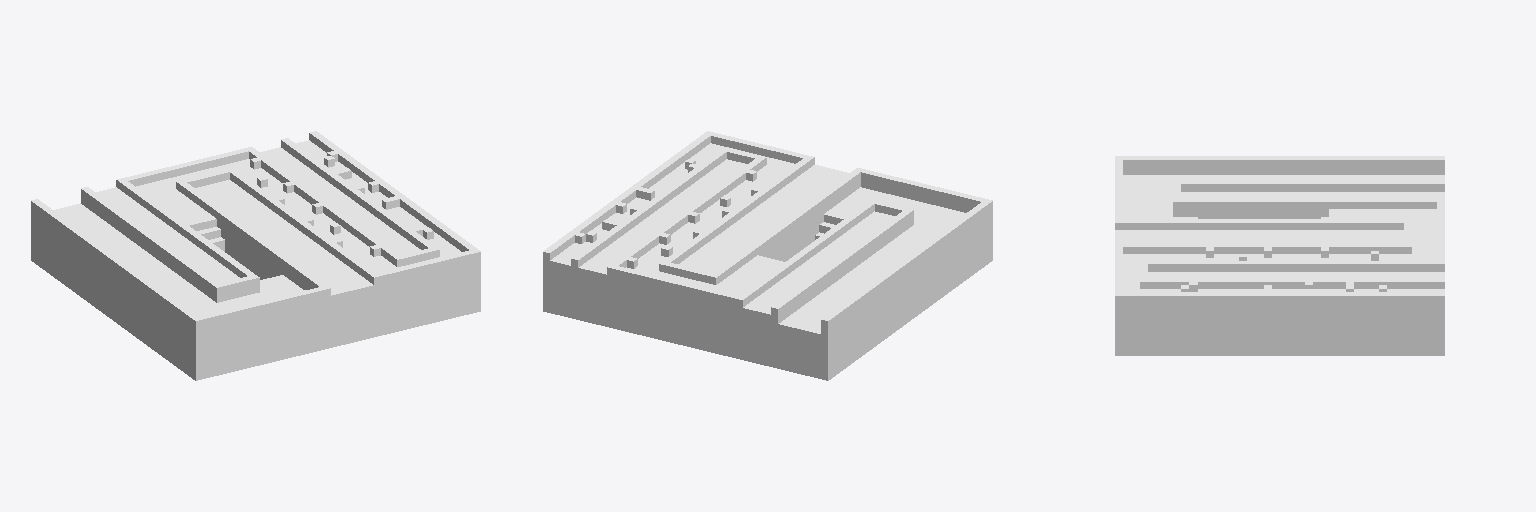
The model's file is map2.obj.
3 renders of one model, left to right at view 1: azimuth 30°, elevation 25°; view 2: azimuth 150°, elevation 25°; view 3: azimuth 270°, elevation 25°, orthographic.
Visible parts, largest first — view 1: untitled; view 2: untitled; view 3: untitled.
Part boxes in pixels (x1,y1,x2,y2): untitled: (31,131,480,380); untitled: (543,131,992,380); untitled: (1115,156,1444,355).
Size of the model in its own units: 4 by 0.8 by 4.